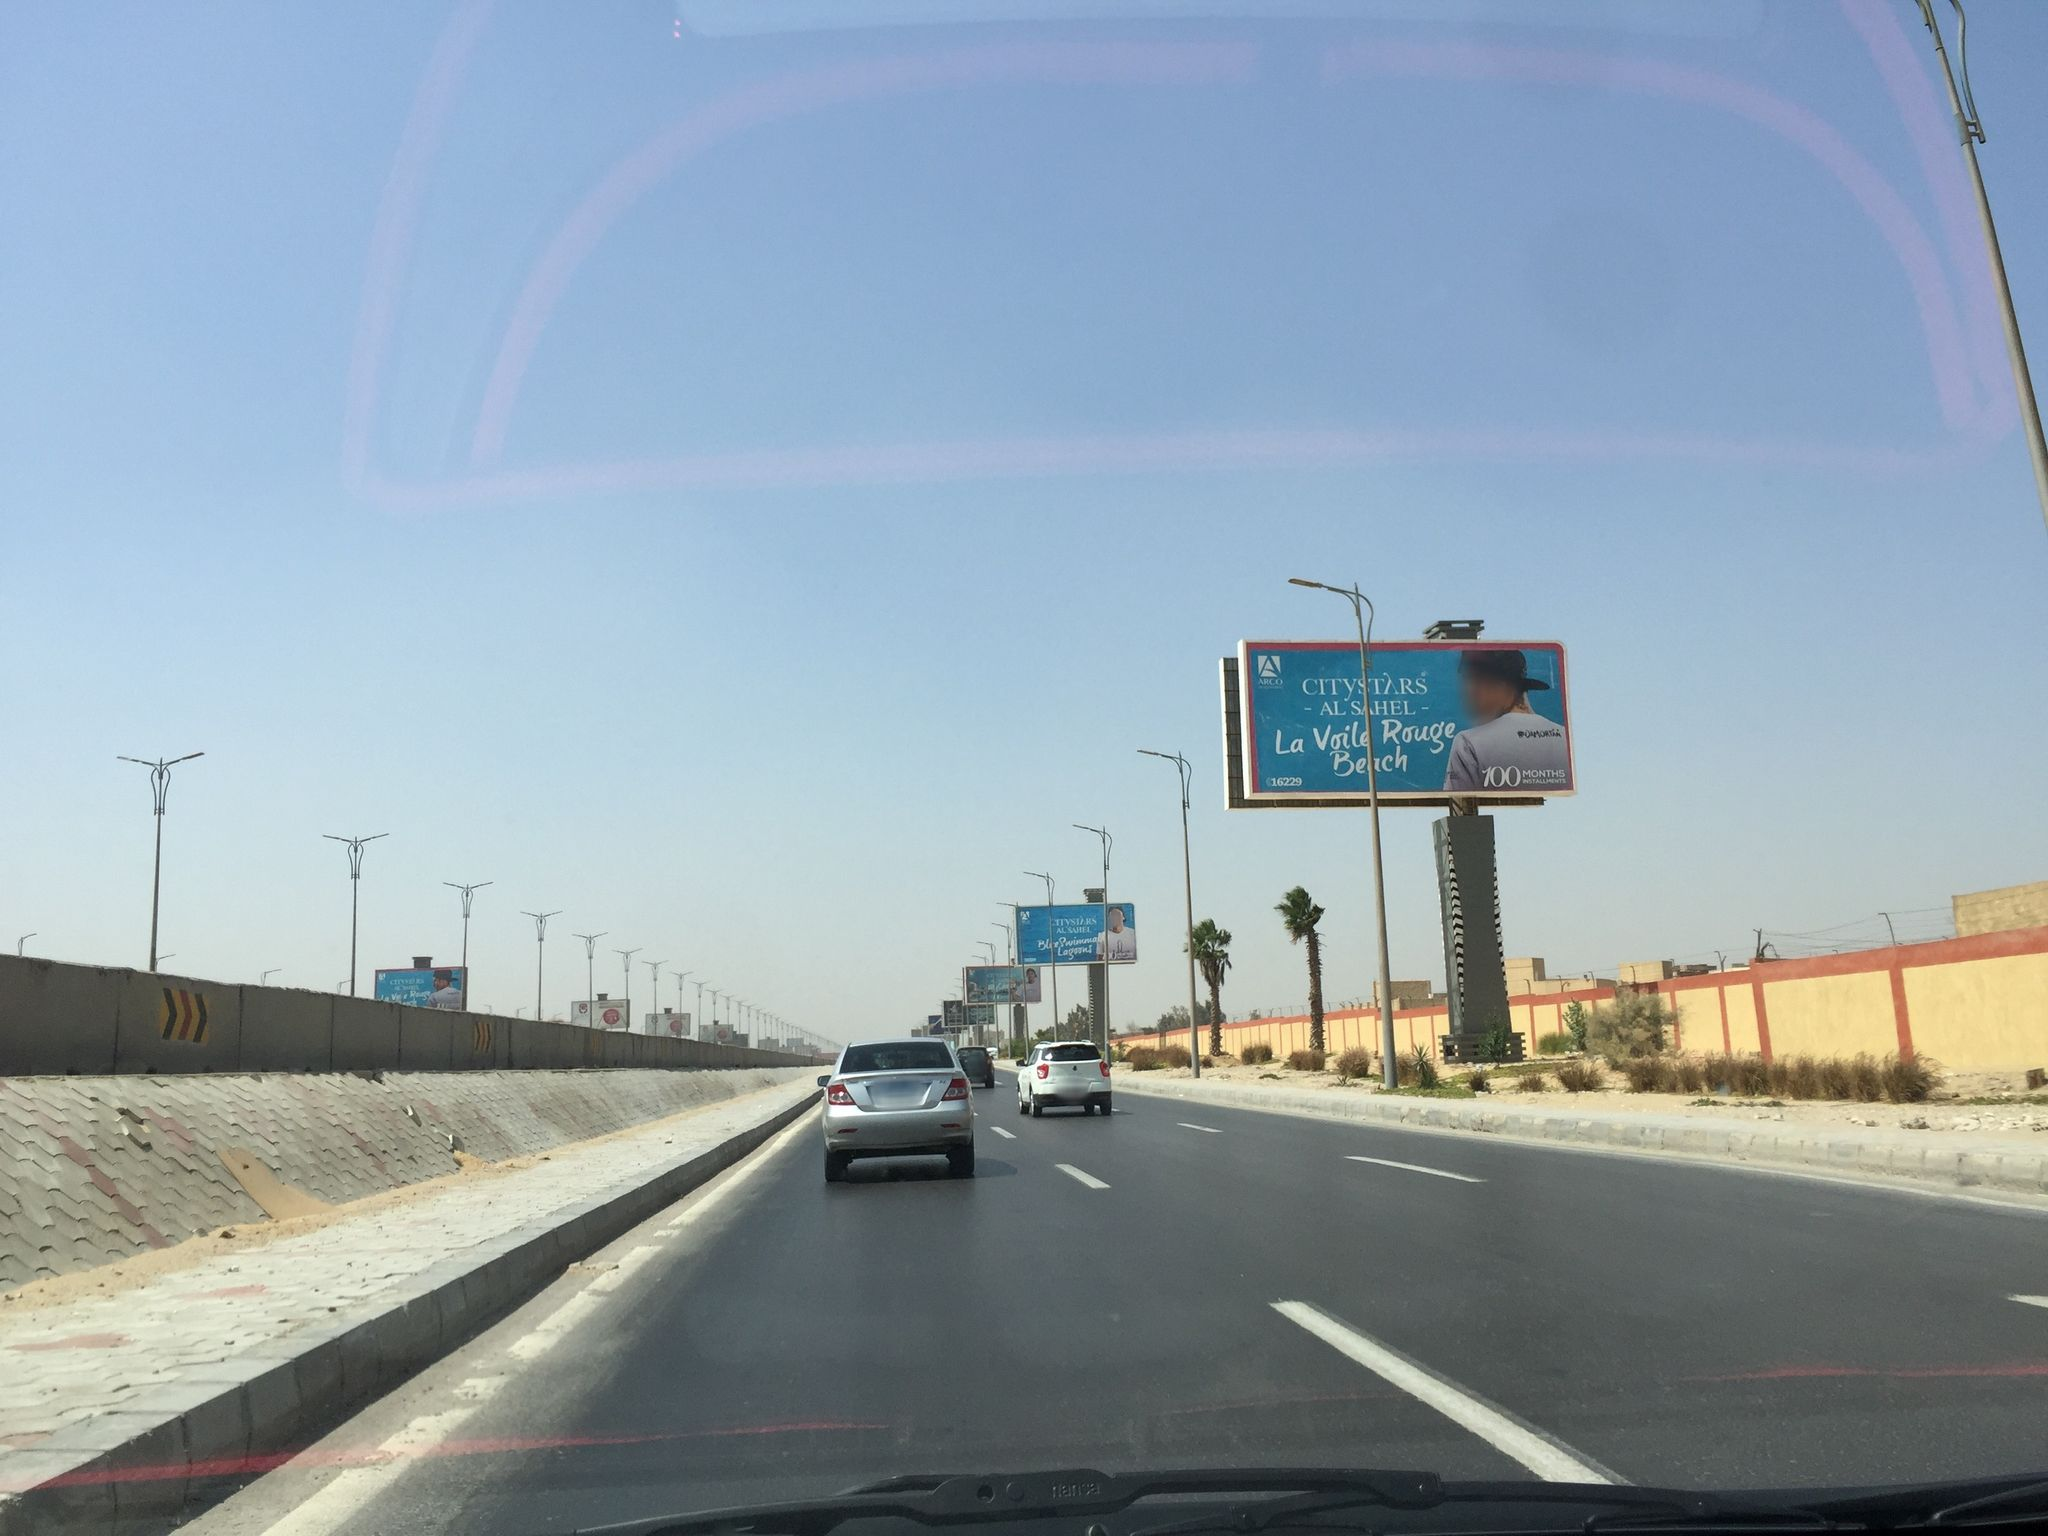car: (818, 1036, 980, 1179), (1014, 1039, 1113, 1117), (955, 1046, 997, 1087)
